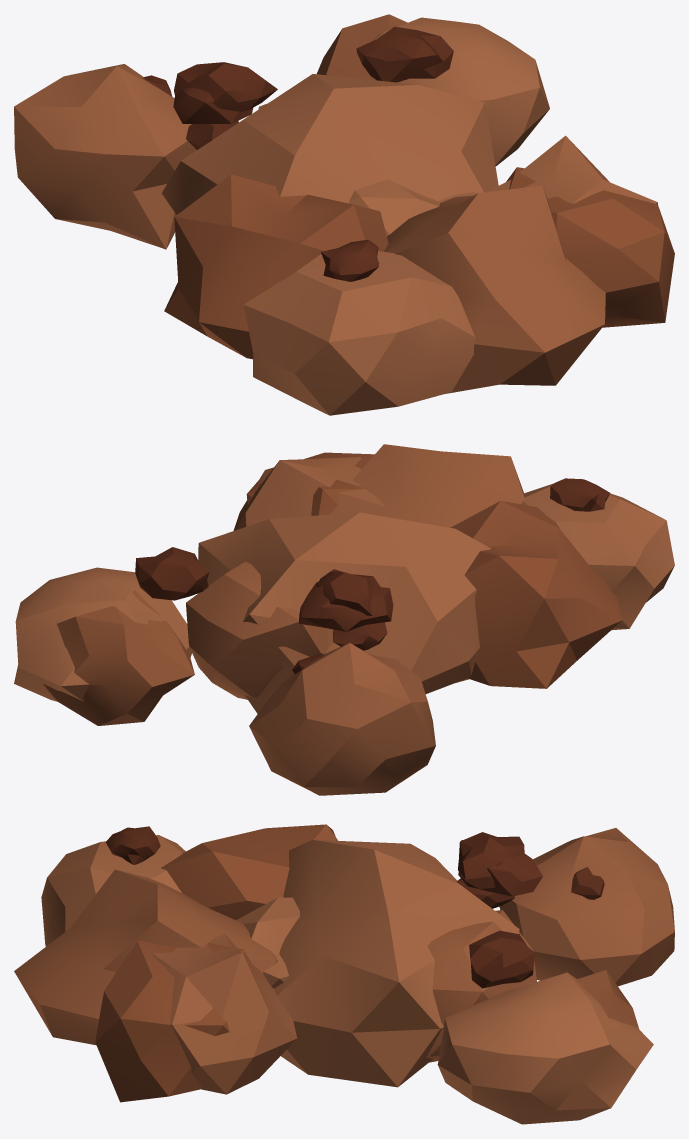
Rendered from dep_iron_1.glb.
The picture shows the model from 3 angles, top to bottom: view 1: azimuth 30°, elevation 25°; view 2: azimuth 150°, elevation 25°; view 3: azimuth 270°, elevation 25°; orthographic projection. The views are drawn at different scales.
Visible parts, largest first — view 1: rock_iron; view 2: rock_iron; view 3: rock_iron.
Part boxes in pixels (bbox=[...]): rock_iron: bbox=[14, 14, 674, 415]; rock_iron: bbox=[14, 444, 674, 795]; rock_iron: bbox=[14, 824, 674, 1124].
Size of the model in its own units: 8.22 by 2.86 by 10.24.
